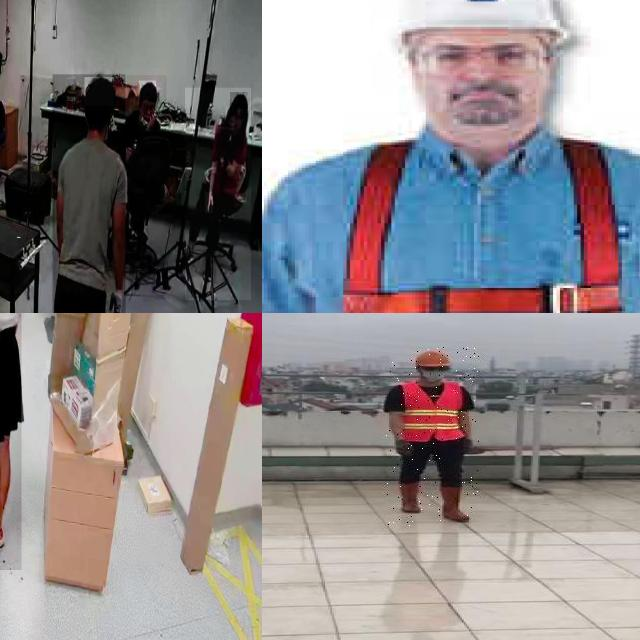Harness: (315, 134, 640, 313)
boots: (438, 486, 474, 523), (396, 481, 423, 510)
face_nomask: (230, 112, 243, 128)
hand_noglove: (147, 111, 157, 130), (205, 192, 213, 214)
head_helmet: (413, 350, 453, 370)
head_nohelmet: (84, 77, 114, 107), (138, 81, 156, 99), (230, 92, 248, 110)
person: (52, 74, 125, 313), (384, 347, 480, 526), (185, 88, 251, 301), (127, 75, 167, 156)
vest: (396, 383, 466, 442)
